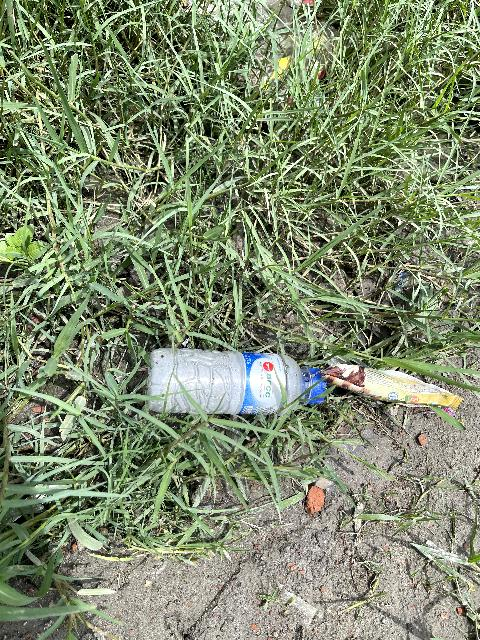bottle: (132, 343, 365, 435)
